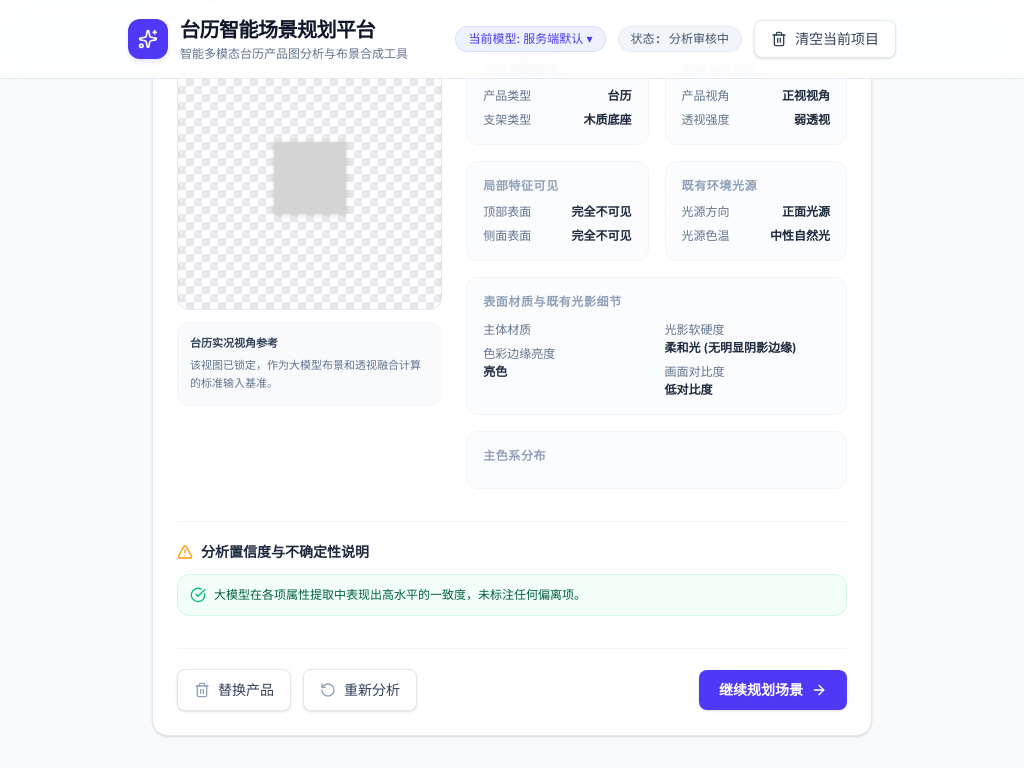
Test: Integration Tests › 429 Quota Exhausted handling and manual retry
This screenshot has width=1024, height=768.
(page scrolled)
What coordinates should you click on to do the following:
click the button "继续规划场景"
I would click on:
 (773, 690)
Its box is [699,670,847,710].
(page scrolled)
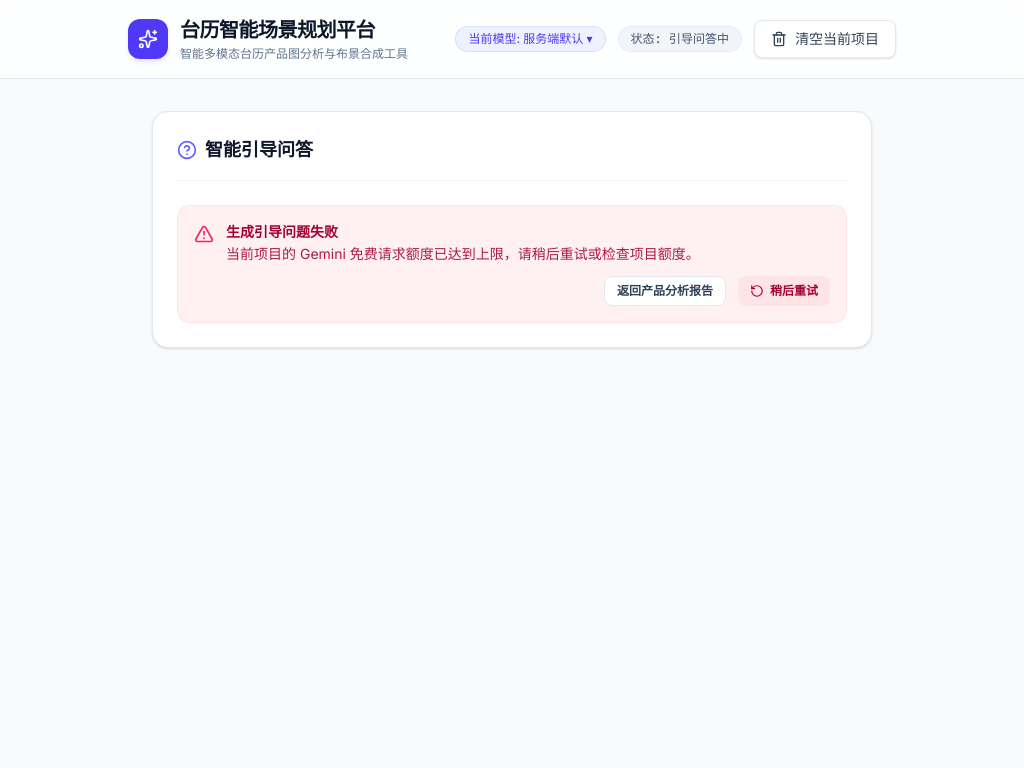
Expected: the text "采用推荐方案" is not shown
Expected: the text "生成引导问题失败" is shown, [226,223,338,240]
Expected: the text "当前项目的 Gemini 免费请求额度已达到上限，请稍后重试或检查项目额度。" is shown, [226,244,700,264]
What coordinates should you click on to do the following:
click the button "稍后重试"
I would click on:
 (784, 291)
Its box is [738,276,830,306].
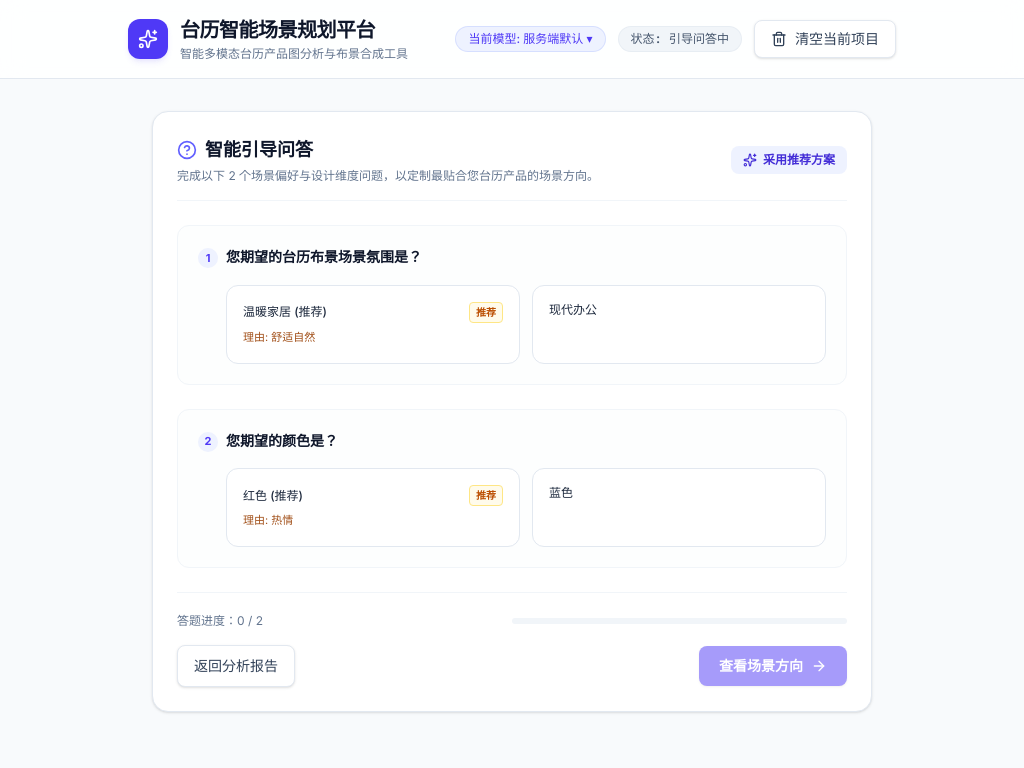
Expected: the heading "您期望的台历布景场景氛围是？" is shown, [226,246,422,269]
